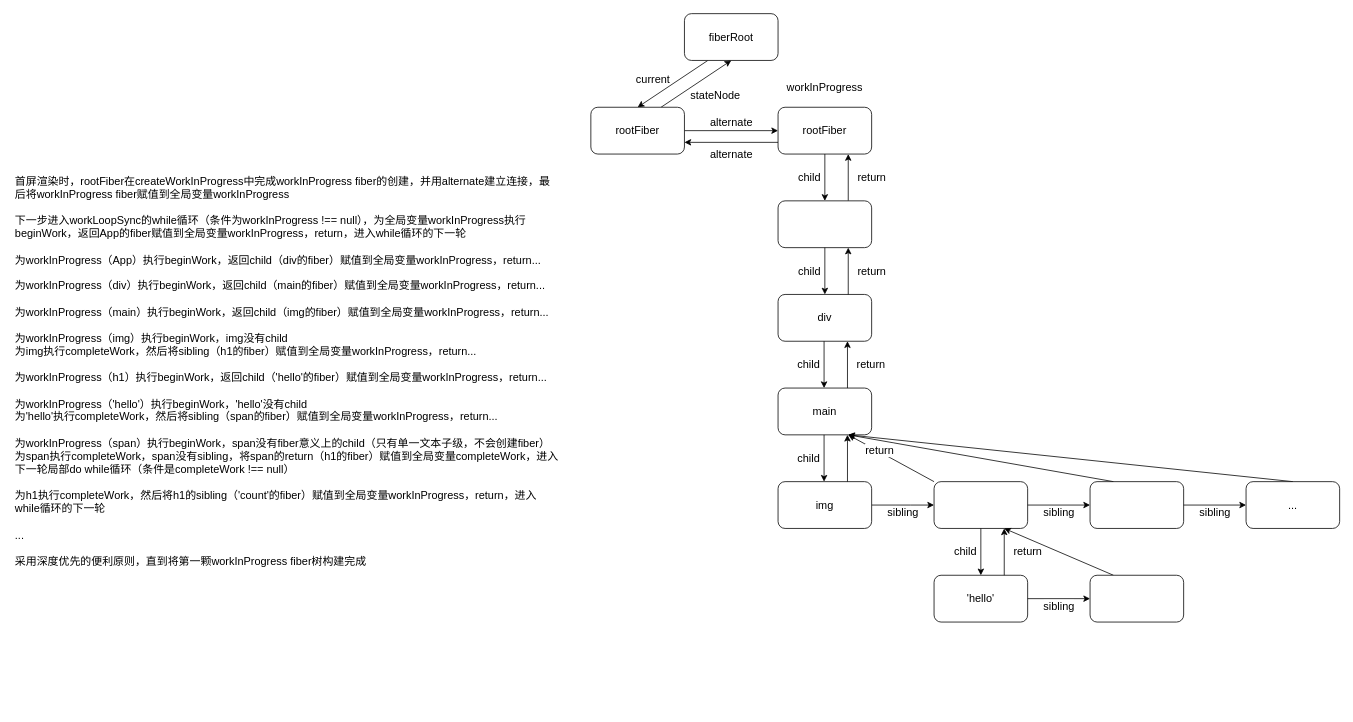
This 1353x722 diagram has some shape labels left out. The centre of each missing label's shape, as x and y in pixels:
"'count'" belongs at point (1136, 504).
"App" belongs at point (824, 224).
"h1" belongs at point (980, 504).
"span" belongs at point (1136, 598).
